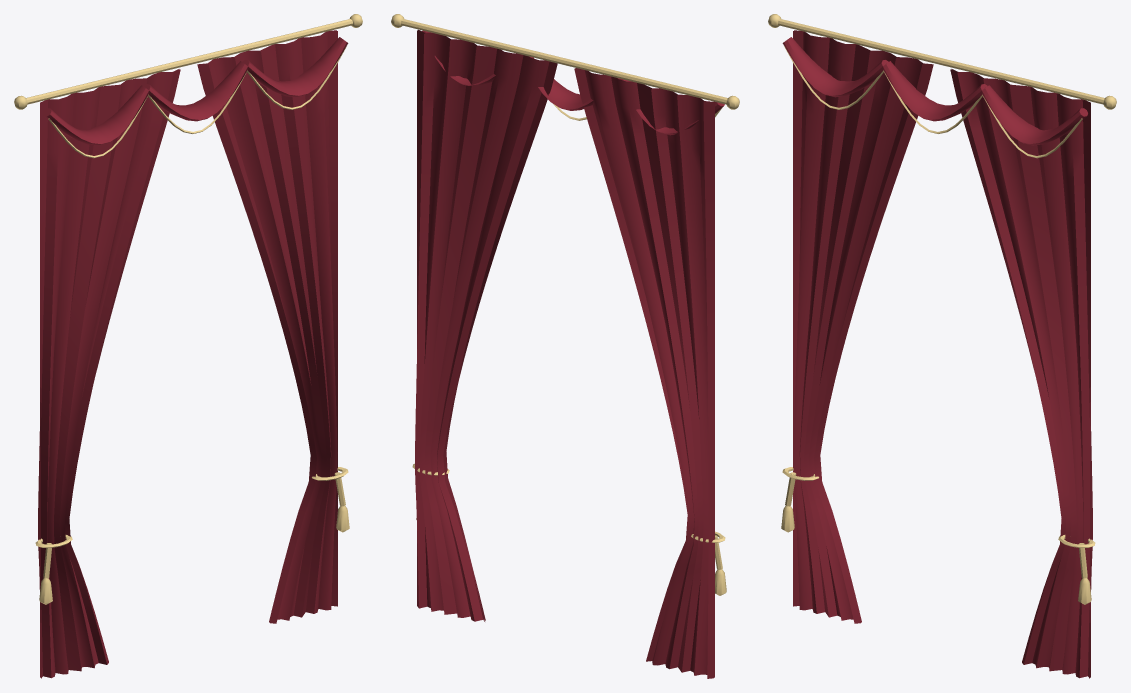
Rendered from curtain-velvet.glb.
3 renders of one model, left to right at view 1: azimuth 30°, elevation 25°; view 2: azimuth 150°, elevation 25°; view 3: azimuth 330°, elevation 25°, orthographic.
Parts seen in each view (by area): view 1: curtain-velvet; view 2: curtain-velvet; view 3: curtain-velvet.
Part boxes in pixels (bbox=[...]): curtain-velvet: bbox=[14, 14, 362, 678]; curtain-velvet: bbox=[391, 14, 739, 678]; curtain-velvet: bbox=[768, 14, 1116, 678].
Bounding box in the file's own units: 3.98 × 6.42 × 0.3995.
